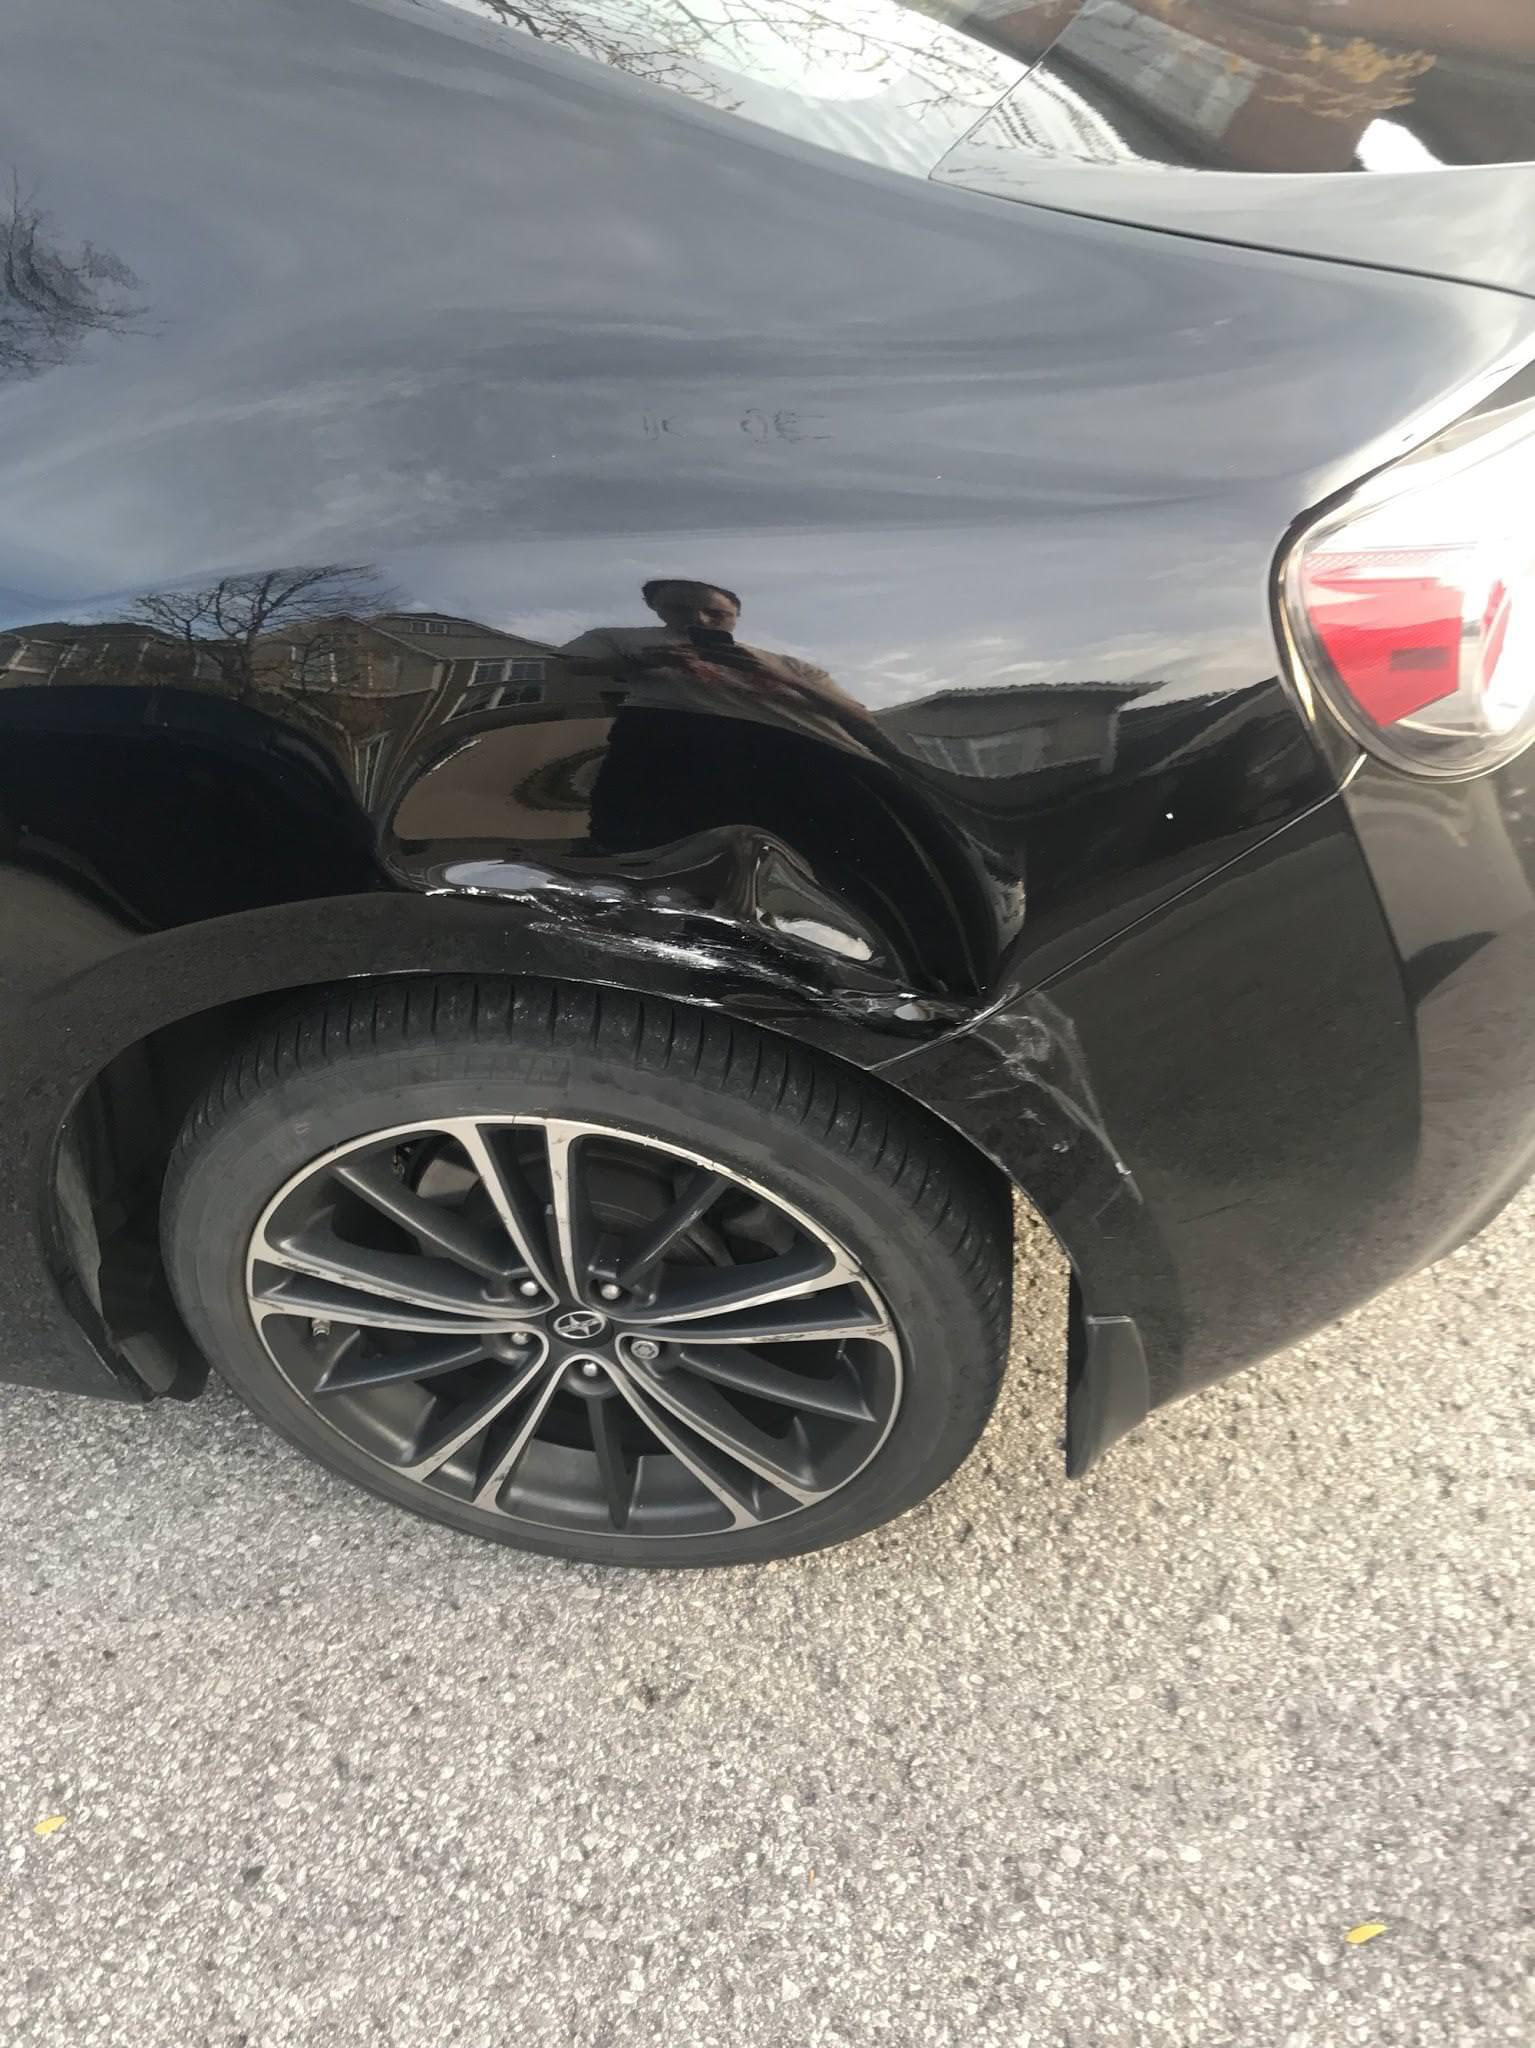quaterpanel-dent: (0, 568, 1285, 1288)
